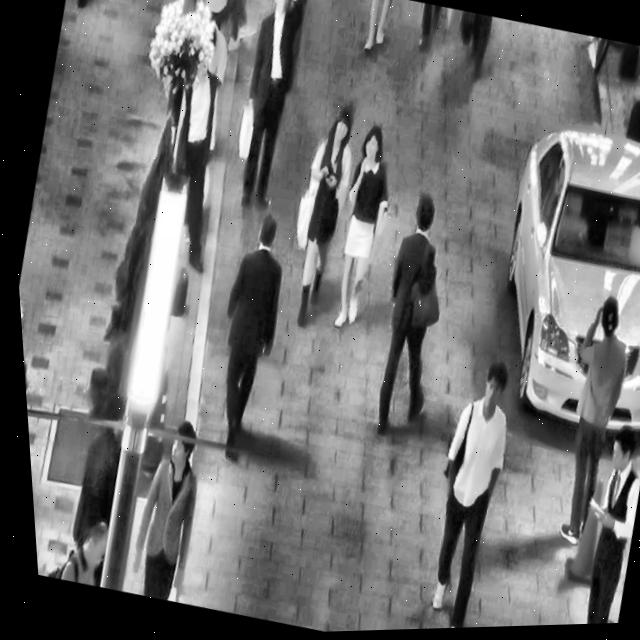light_vehicle: (453, 98, 640, 457)
